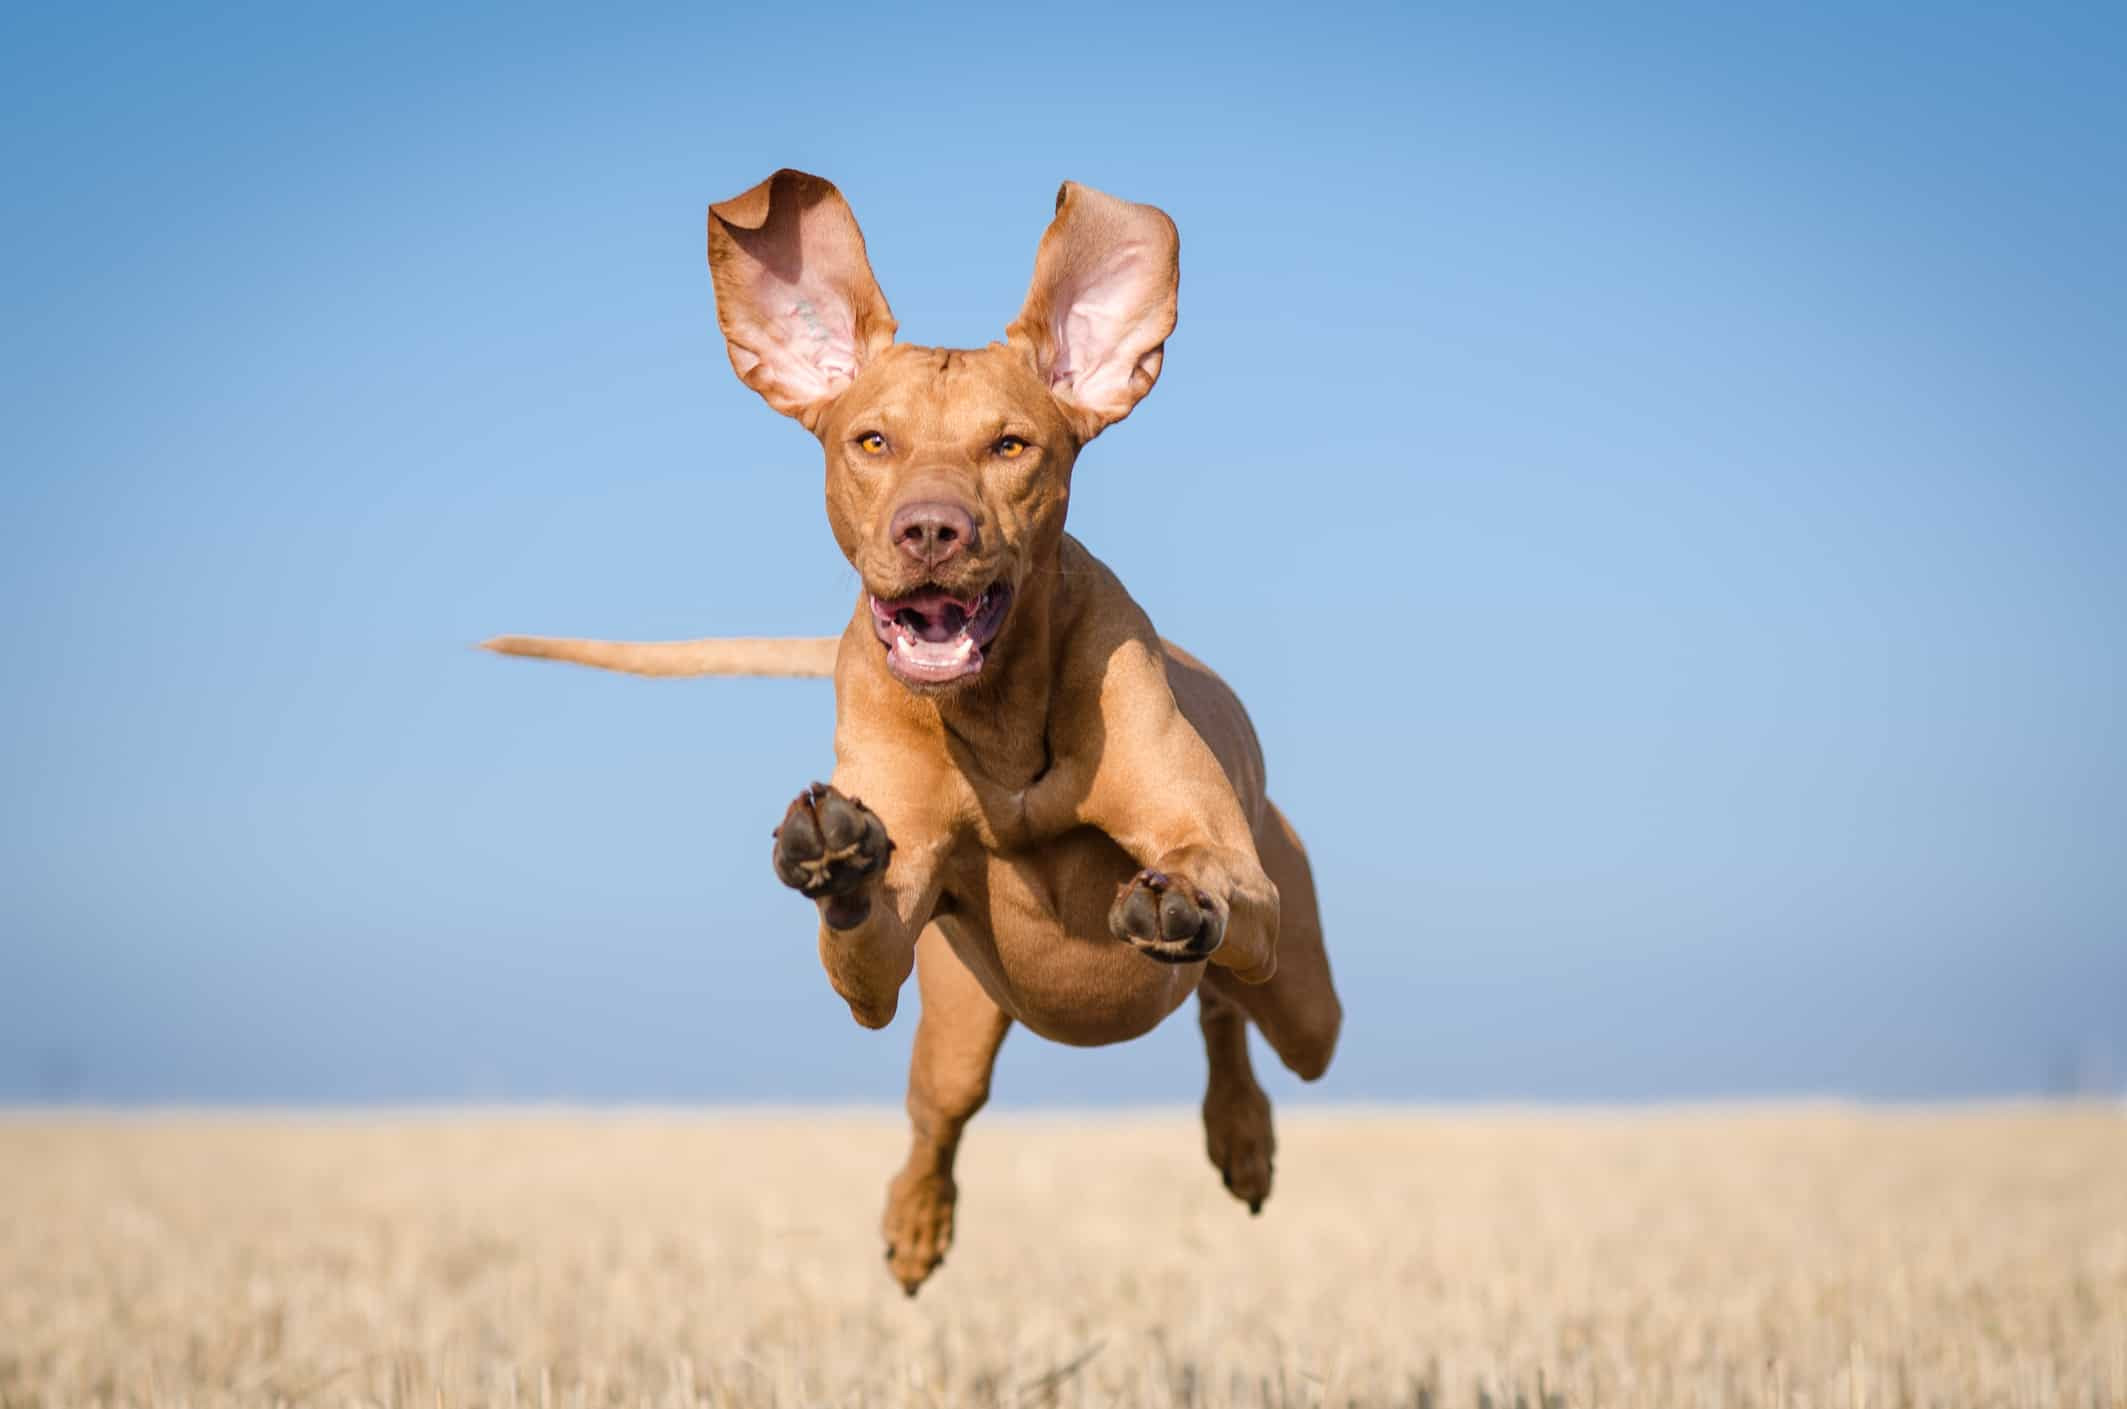dog: (464, 160, 1346, 1308)
